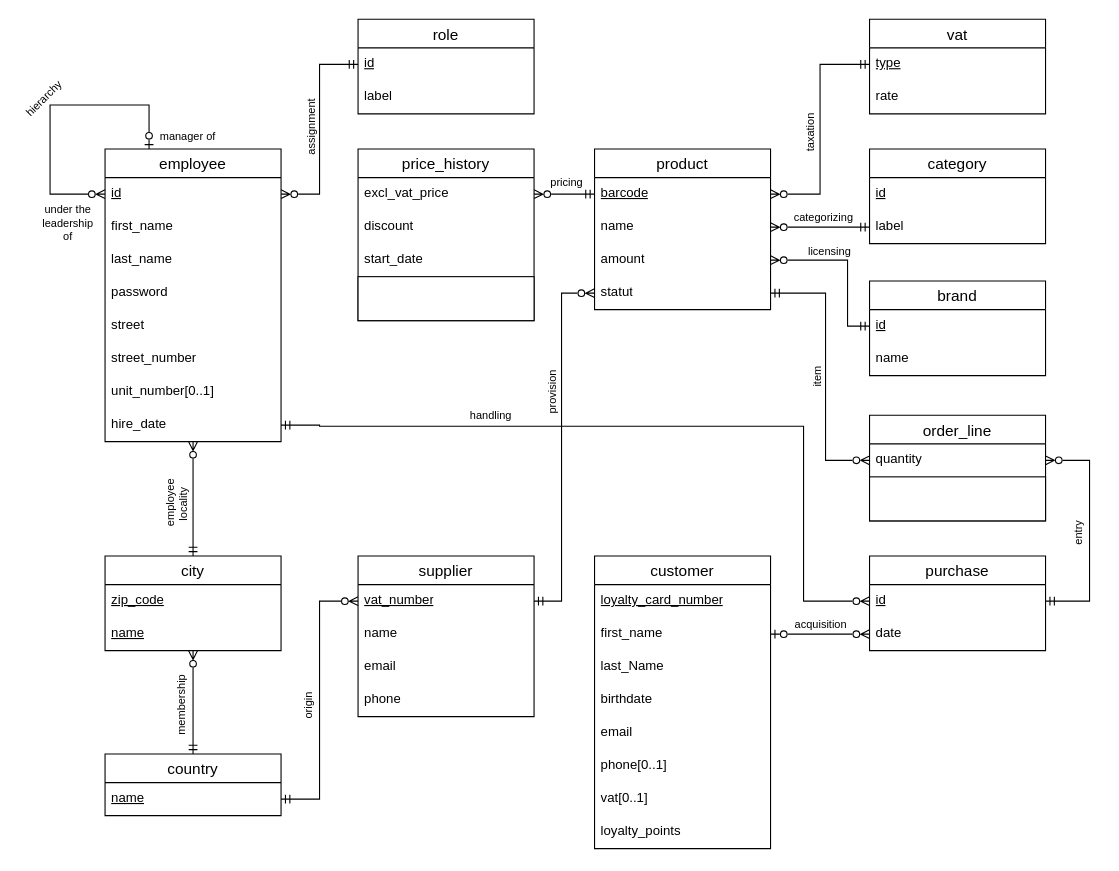
Image size: 1119x871. Some labels were removed from this diagram. Here are the shapes that lost their labels. From the top down, the centre of each, then its label:
At point (445, 298): "id (priceHistory) : product, start_date".
At point (957, 498): "id (order_line) : purchase, product".
